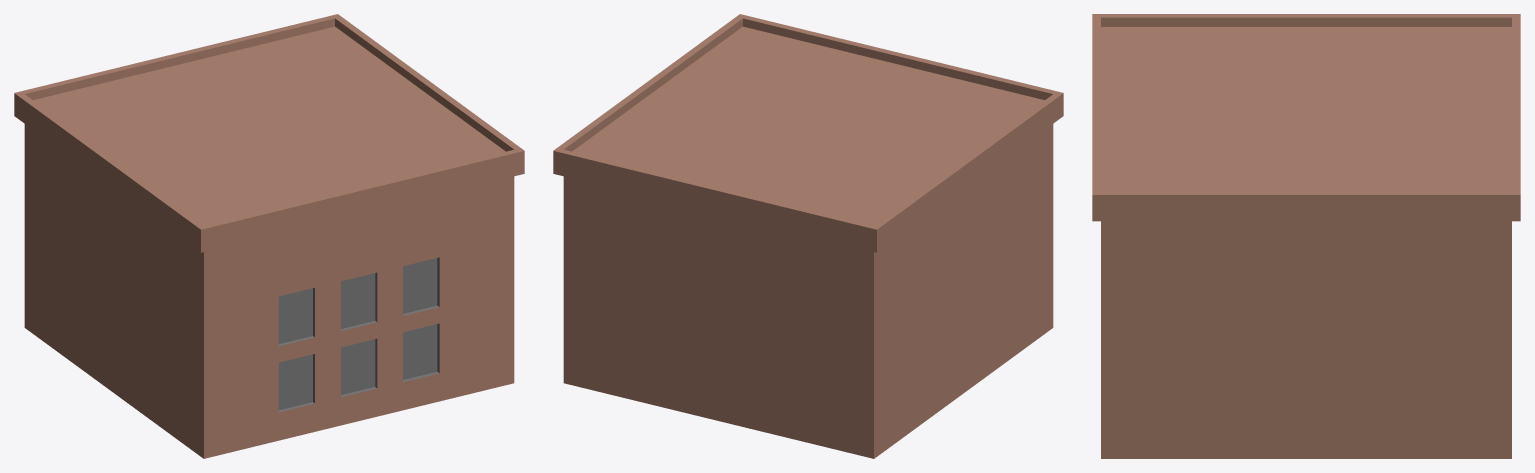
3 renders of one model, left to right at view 1: azimuth 30°, elevation 25°; view 2: azimuth 150°, elevation 25°; view 3: azimuth 270°, elevation 25°, orthographic. The views are drawn at different scales.
Visible parts, largest first — view 1: pCube3; view 2: pCube3; view 3: pCube3.
Boxes of the visible parts, x1=… form: pCube3: x1=14, y1=14, x2=524, y2=458; pCube3: x1=553, y1=14, x2=1063, y2=458; pCube3: x1=1092, y1=14, x2=1520, y2=458.
Bounding box in the file's own units: 1043 × 719 × 1043.
